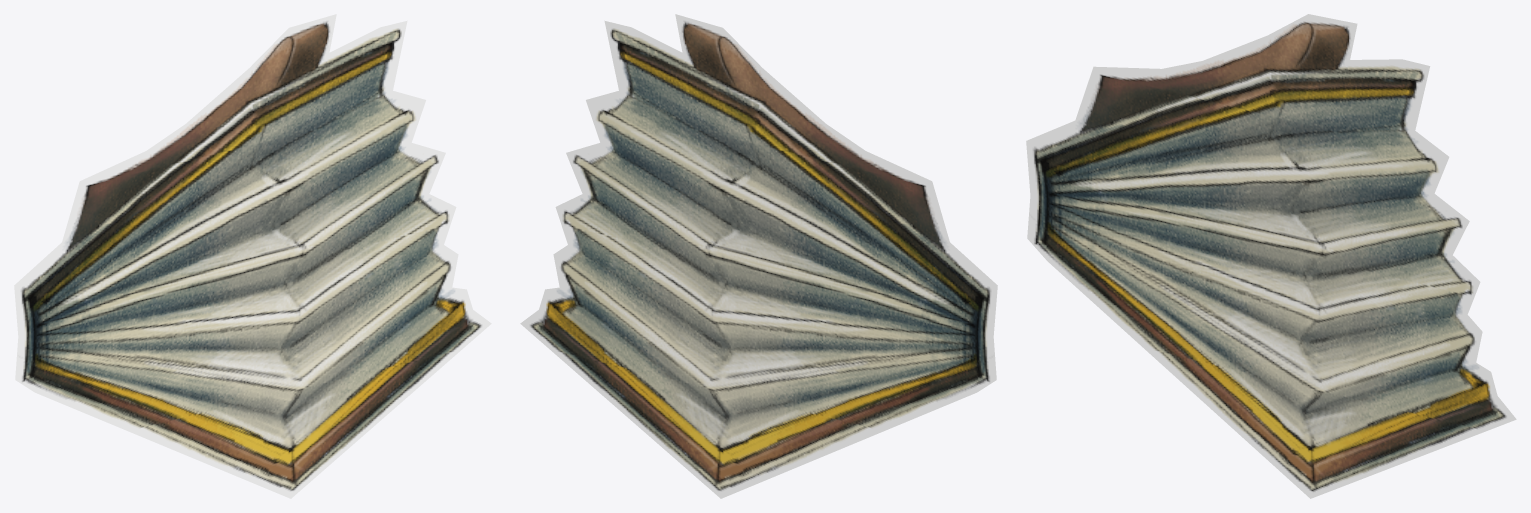
3 renders of one model, left to right at view 1: azimuth 30°, elevation 25°; view 2: azimuth 150°, elevation 25°; view 3: azimuth 330°, elevation 25°, orthographic. The views are drawn at different scales.
Parts seen in each view (by area): view 1: Plane; view 2: Plane; view 3: Plane.
Boxes of the visible parts, box(x1,y1,x2,y2) form: Plane: box(14, 14, 491, 498); Plane: box(520, 14, 997, 498); Plane: box(1026, 14, 1516, 498).
Bounding box in the file's own units: 3.21 × 3.04 × 0.
Materials: 1 (1 with a texture image).
